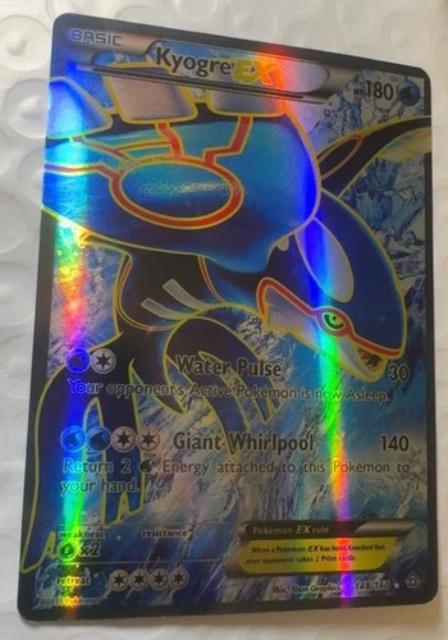Card: (12, 9, 443, 626)
Name: (145, 38, 284, 91)
